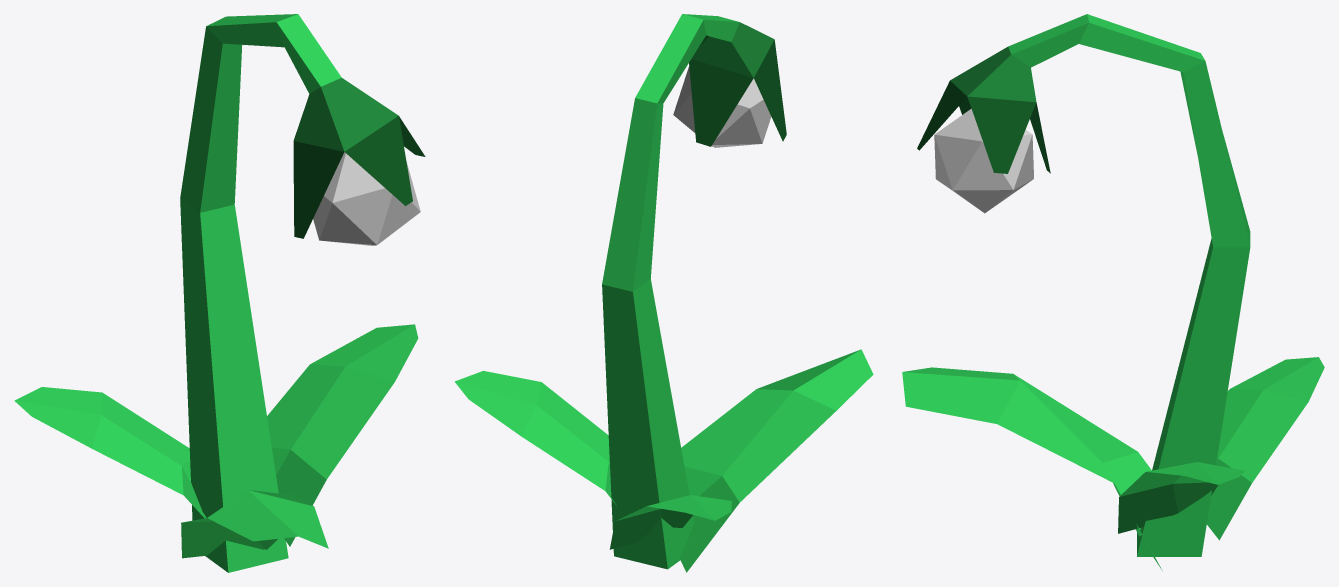
The model's file is energyPlant.fbx.
3 renders of one model, left to right at view 1: azimuth 30°, elevation 25°; view 2: azimuth 150°, elevation 25°; view 3: azimuth 270°, elevation 25°, orthographic. The views are drawn at different scales.
Visible parts, largest first — view 1: Cube; view 2: Cube; view 3: Cube.
Part boxes in pixels (x1=…): Cube: x1=14, y1=14, x2=425, y2=572; Cube: x1=454, y1=14, x2=873, y2=572; Cube: x1=902, y1=14, x2=1324, y2=570.
Bounding box in the file's own units: 57.49 × 91.86 × 65.25.
